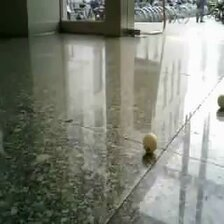w: (142, 132, 158, 152)
